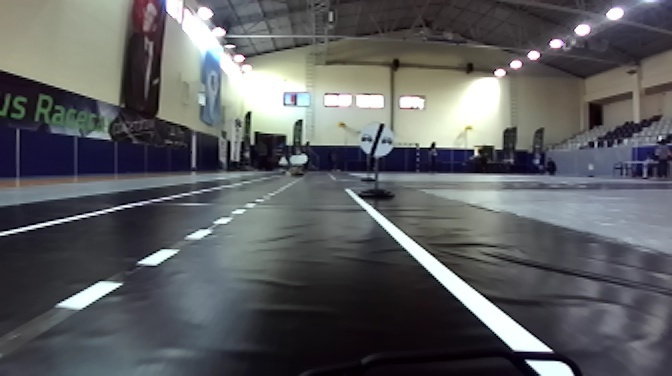sollama_serbest: (358, 121, 395, 156)
